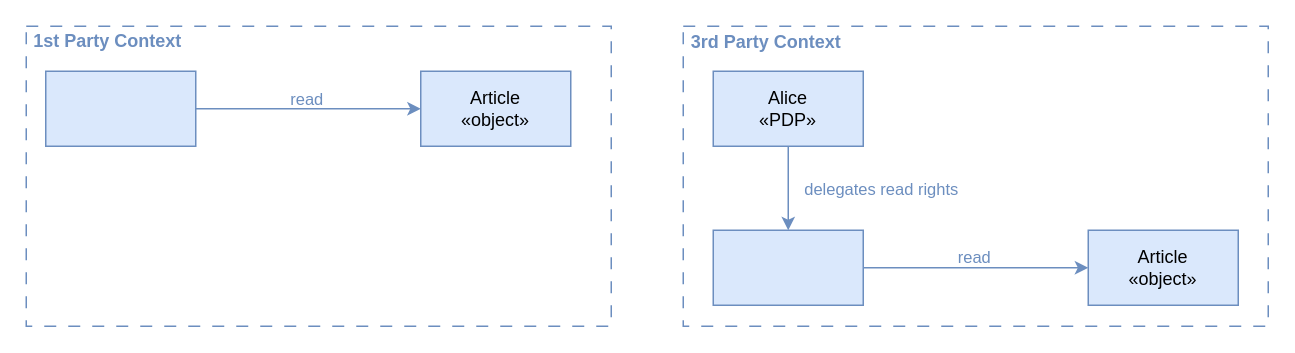
This 1295x353 diagram has some shape labels left out. Each missing label, with the box of its shape:
Alice «subject»: (44, 70, 196, 146)
Some Service «subject»: (712, 229, 863, 305)
